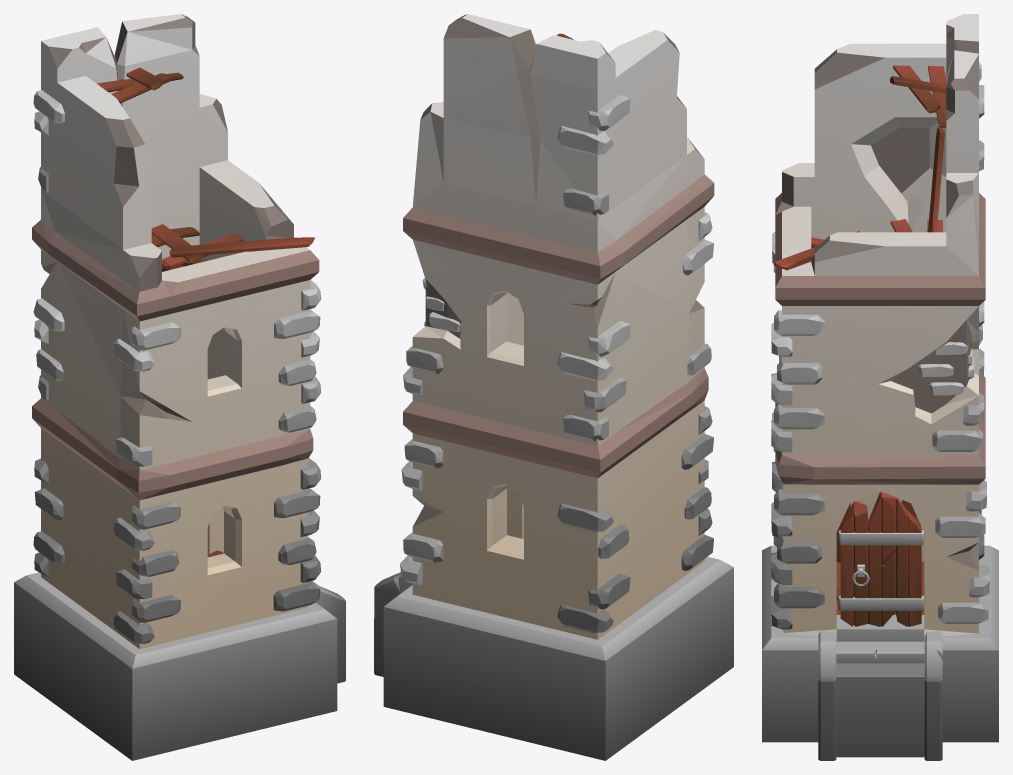
Rendered from DamagedTower.fbx.
3 renders of one model, left to right at view 1: azimuth 30°, elevation 25°; view 2: azimuth 150°, elevation 25°; view 3: azimuth 270°, elevation 25°, orthographic. The views are drawn at different scales.
Parts seen in each view (by area): view 1: DamagedTower; view 2: DamagedTower; view 3: DamagedTower.
Boxes of the visible parts, left/top/right/bottom form: DamagedTower: left=14, top=14, right=345, bottom=760; DamagedTower: left=374, top=14, right=733, bottom=760; DamagedTower: left=762, top=14, right=998, bottom=760.
Size of the model in its own units: 5.38 by 13.48 by 4.54.
